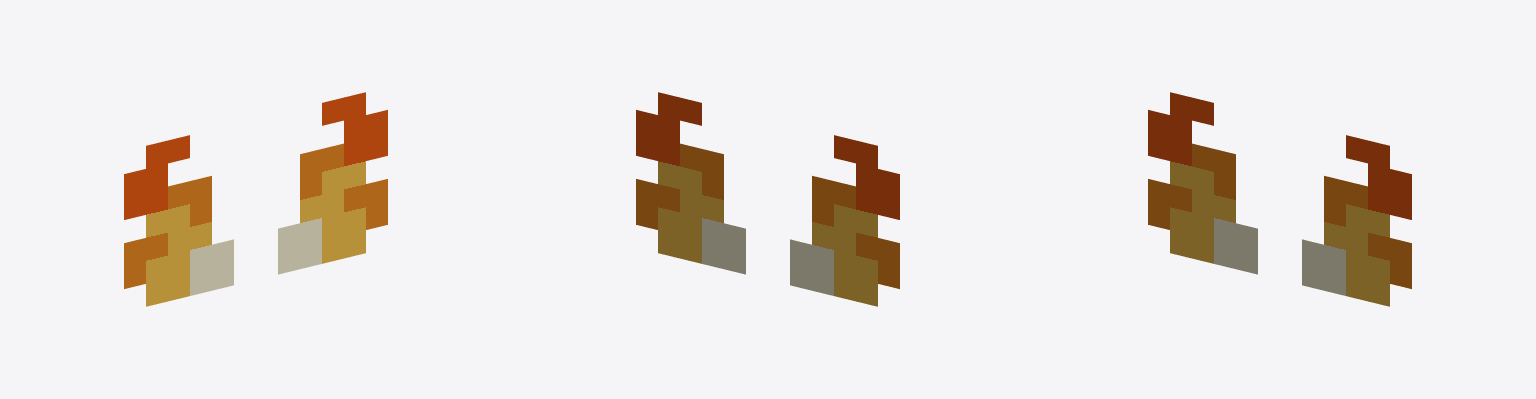
The model's file is sl_rageelixir_s_flame_eyes.glb.
The picture shows the model from 3 angles, left to right: view 1: azimuth 30°, elevation 25°; view 2: azimuth 150°, elevation 25°; view 3: azimuth 330°, elevation 25°; orthographic projection.
Visible parts, largest first — view 1: bb_rageelixir_s_flame_eyes; view 2: bb_rageelixir_s_flame_eyes; view 3: bb_rageelixir_s_flame_eyes.
Part boxes in pixels (box(x1,y1,x2,y2)): bb_rageelixir_s_flame_eyes: box(124, 92, 387, 306); bb_rageelixir_s_flame_eyes: box(636, 92, 899, 306); bb_rageelixir_s_flame_eyes: box(1148, 92, 1411, 306).
Size of the model in its own units: 1.38 by 0.6875 by 0.
Materials: 1 (1 with a texture image).
